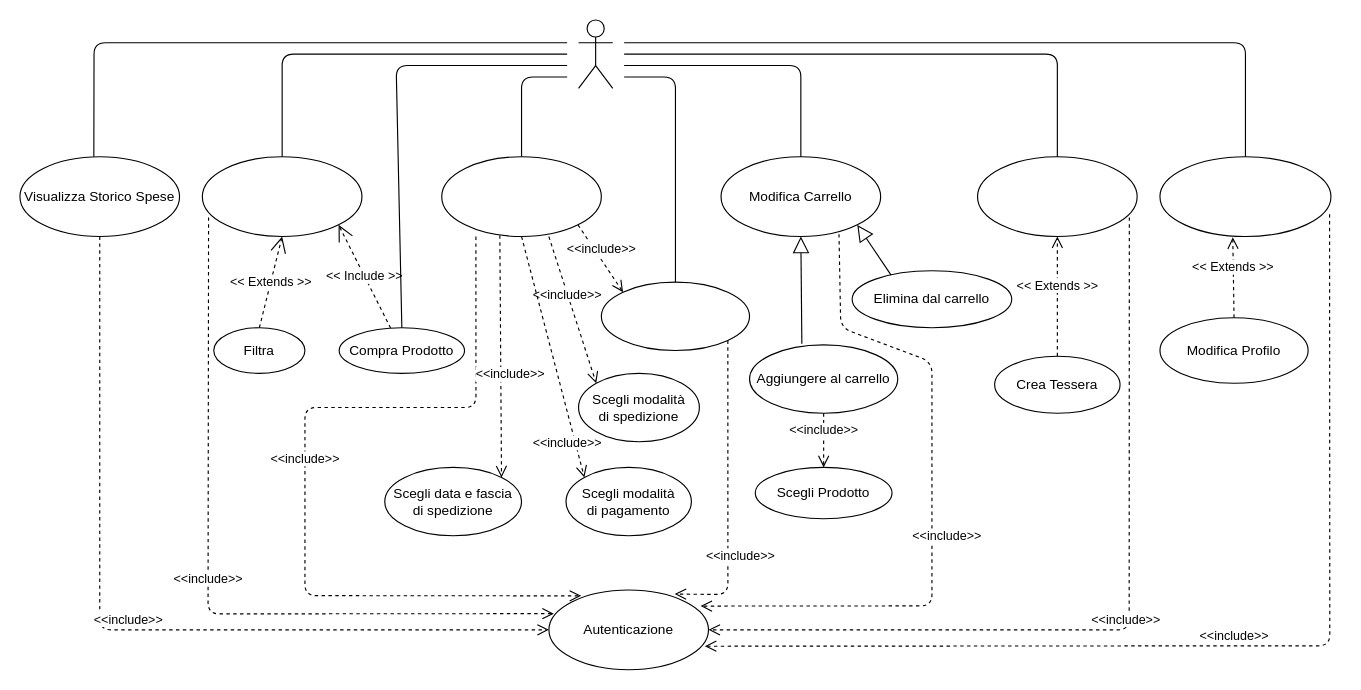
This 1361x690 diagram has some shape labels left out. Each missing label, with the box of its shape:
Conferma Carrello: (441, 156, 601, 237)
Utente Registrato: (577, 19, 613, 88)
Visualizza Carrello: (600, 281, 750, 351)
Visualizza Catalogo: (201, 156, 362, 237)
Visualizza Profilo: (1159, 156, 1331, 237)
Visualizza Tessera Fedeltà: (976, 156, 1137, 237)
